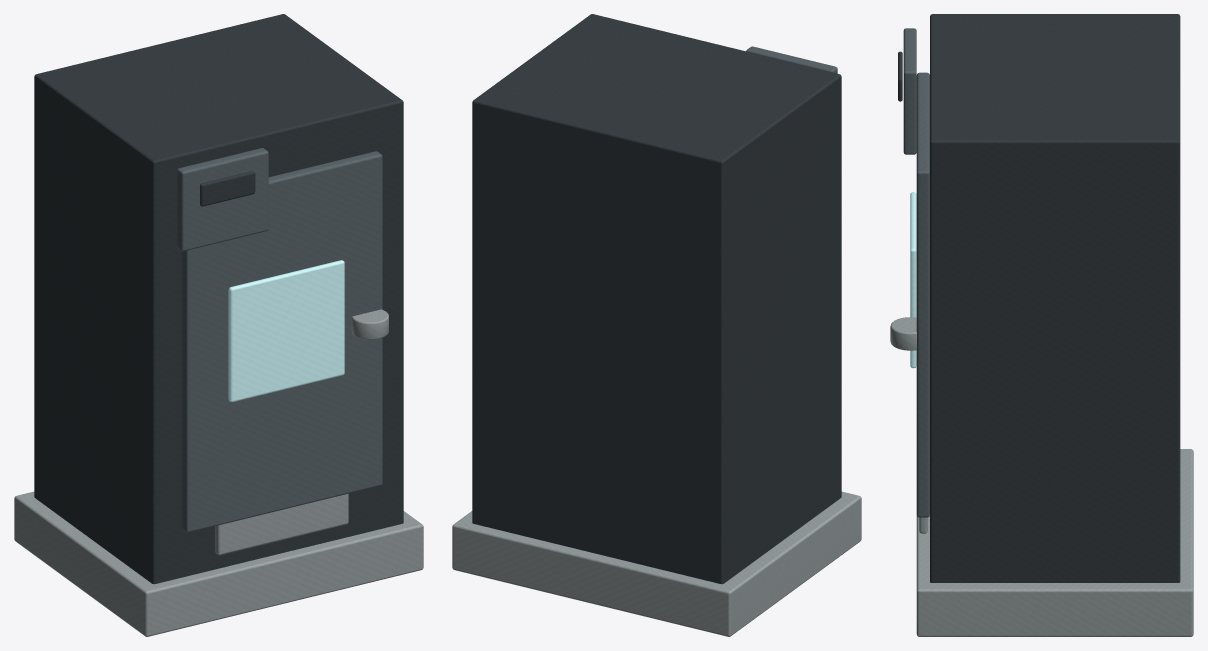
File: InstrumentSterilizer.glb
3 views of the same model, side by side, from view 1: azimuth 30°, elevation 25°; view 2: azimuth 150°, elevation 25°; view 3: azimuth 270°, elevation 25° (orthographic). The views are drawn at different scales.
Visible parts, largest first — view 1: InstrumentSterilizer_Mesh; view 2: InstrumentSterilizer_Mesh; view 3: InstrumentSterilizer_Mesh.
Boxes of the visible parts, left/top/right/bottom form: InstrumentSterilizer_Mesh: left=14, top=14, right=423, bottom=636; InstrumentSterilizer_Mesh: left=452, top=14, right=861, bottom=636; InstrumentSterilizer_Mesh: left=890, top=14, right=1193, bottom=636.
Size of the model in its own units: 1.02 by 1.64 by 0.92.
4 materials, 4 textured.
